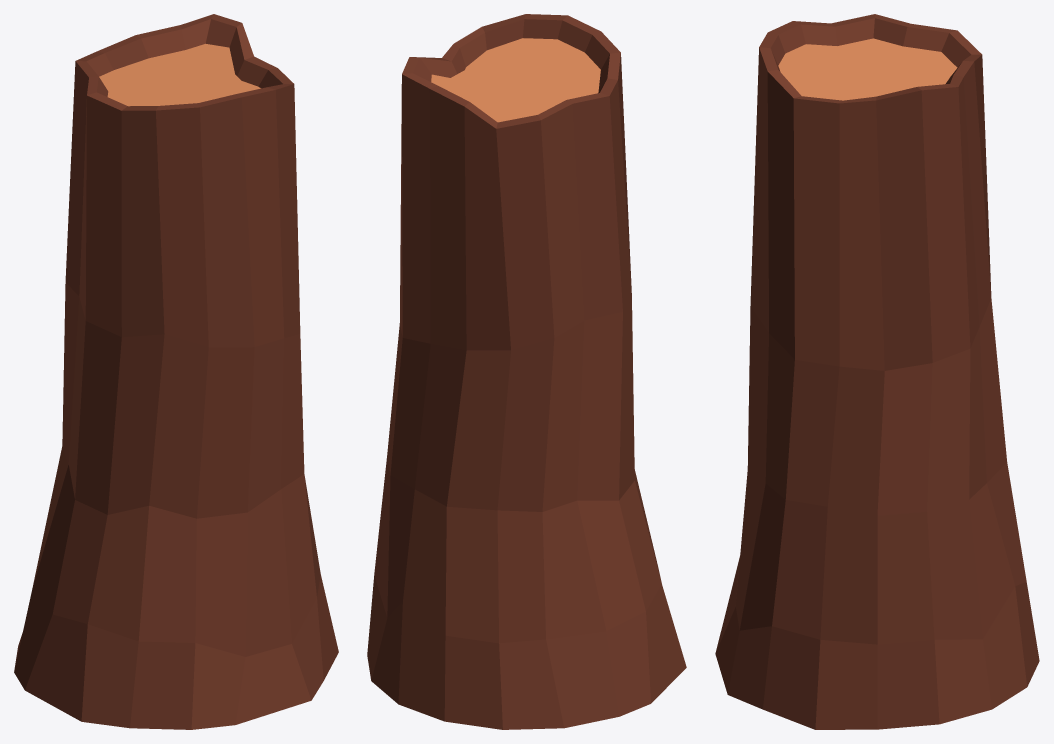
File: pine_trunk_type_7_LOD0.fbx
3 renders of one model, left to right at view 1: azimuth 30°, elevation 25°; view 2: azimuth 150°, elevation 25°; view 3: azimuth 270°, elevation 25°, orthographic. The views are drawn at different scales.
Visible parts, largest first — view 1: pt_type_7; view 2: pt_type_7; view 3: pt_type_7.
Boxes of the visible parts, x1=… form: pt_type_7: x1=14, y1=14, x2=338, y2=729; pt_type_7: x1=367, y1=14, x2=686, y2=729; pt_type_7: x1=715, y1=14, x2=1039, y2=729.
Bounding box in the file's own units: 201 × 422 × 200.
